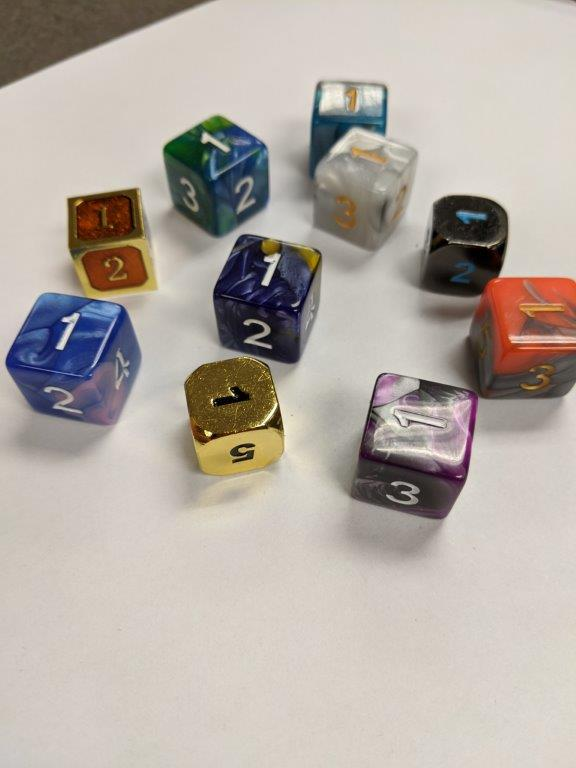d6-1: (347, 372, 478, 525), (6, 291, 142, 427), (311, 122, 421, 256), (212, 231, 322, 364), (162, 113, 275, 238), (470, 276, 576, 402), (183, 354, 288, 480), (65, 186, 157, 304), (415, 194, 507, 296), (302, 72, 391, 136)
